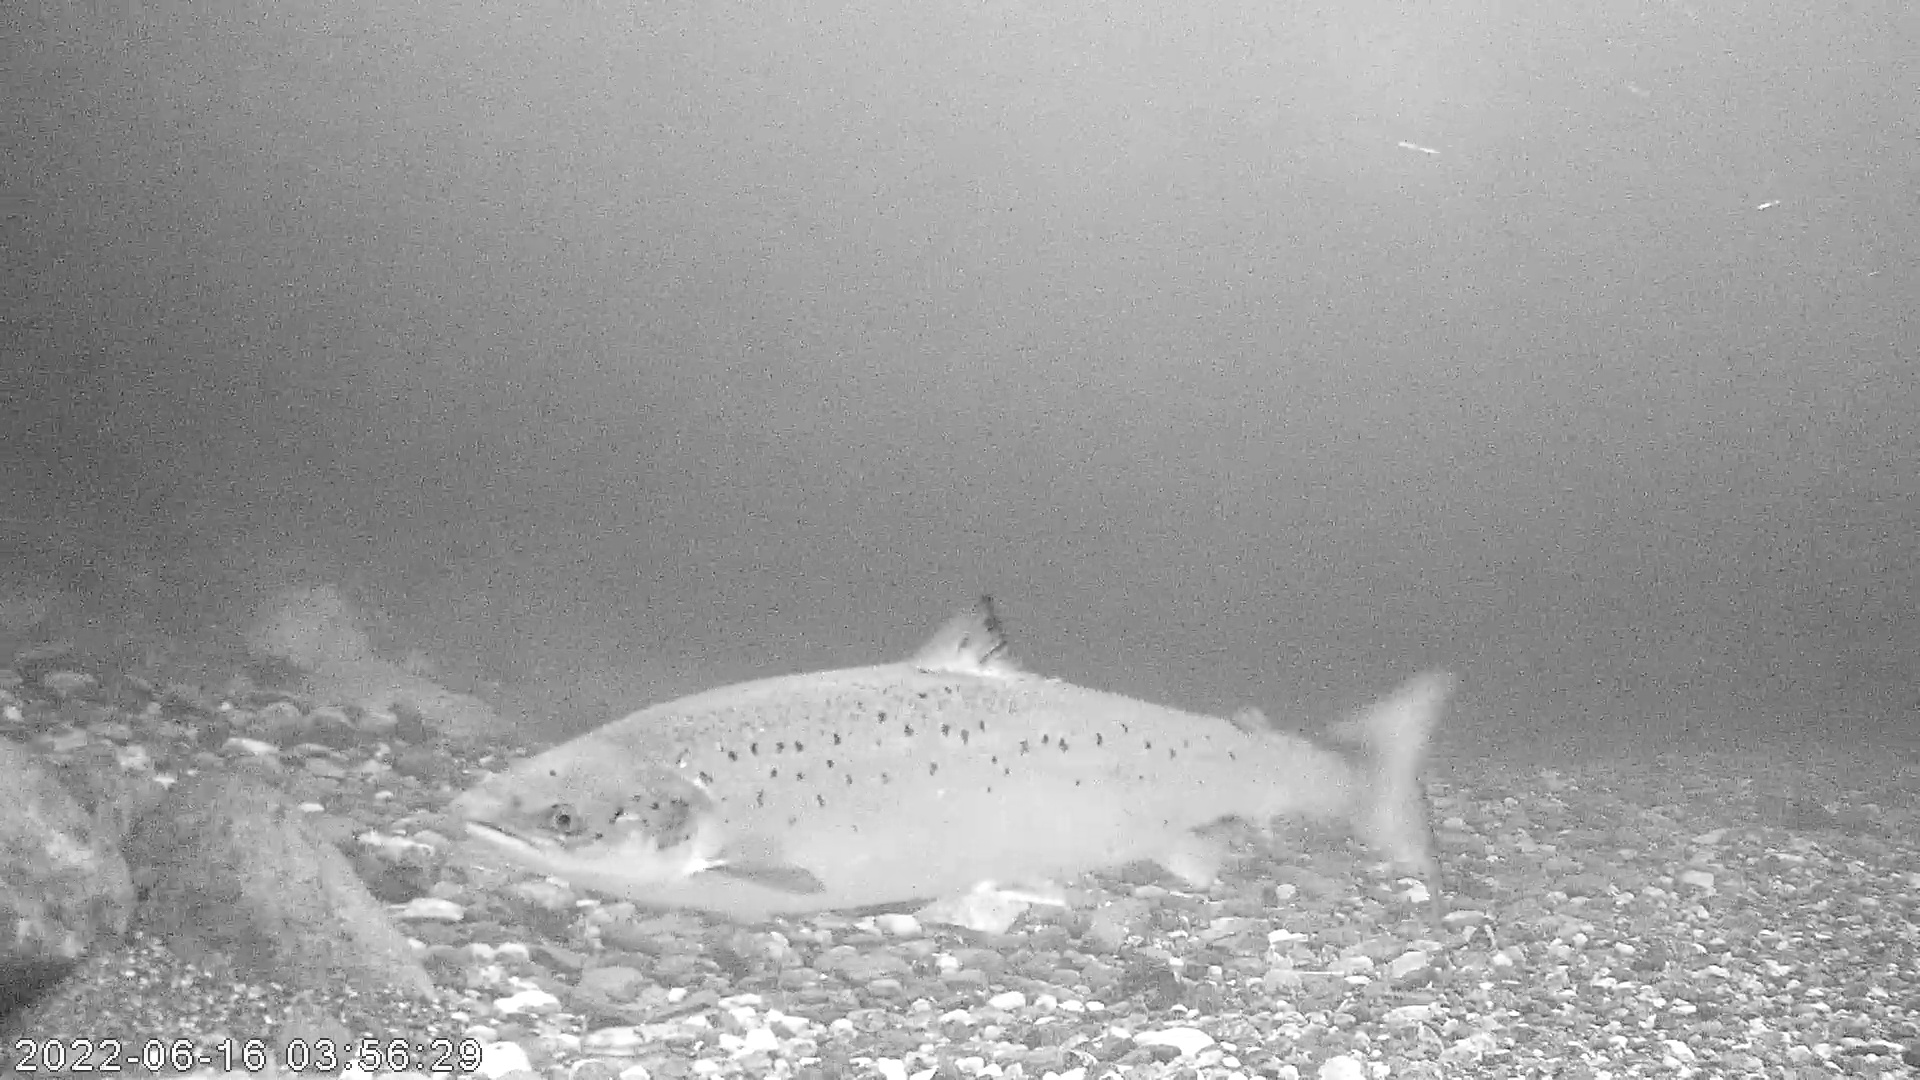salmon: (454, 591, 1462, 918)
